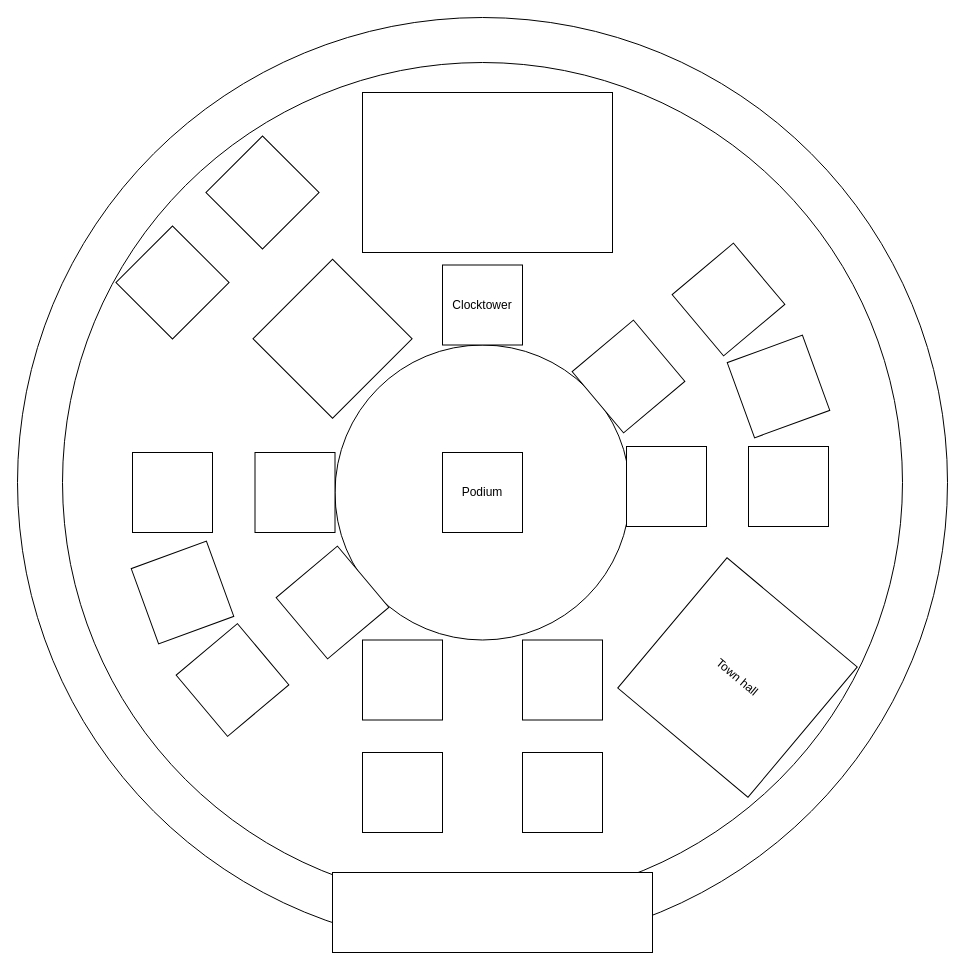
This 965x970 diagram has some shape labels left out. Here are the shapes that lost their labels. From the top down, the centre of each, then its label:
At (x=487, y=172): "Market area".
At (x=332, y=338): "Mafia house".
